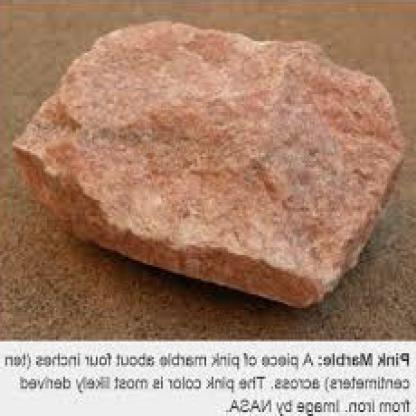Metamorphic_Marble: (13, 18, 407, 298)
